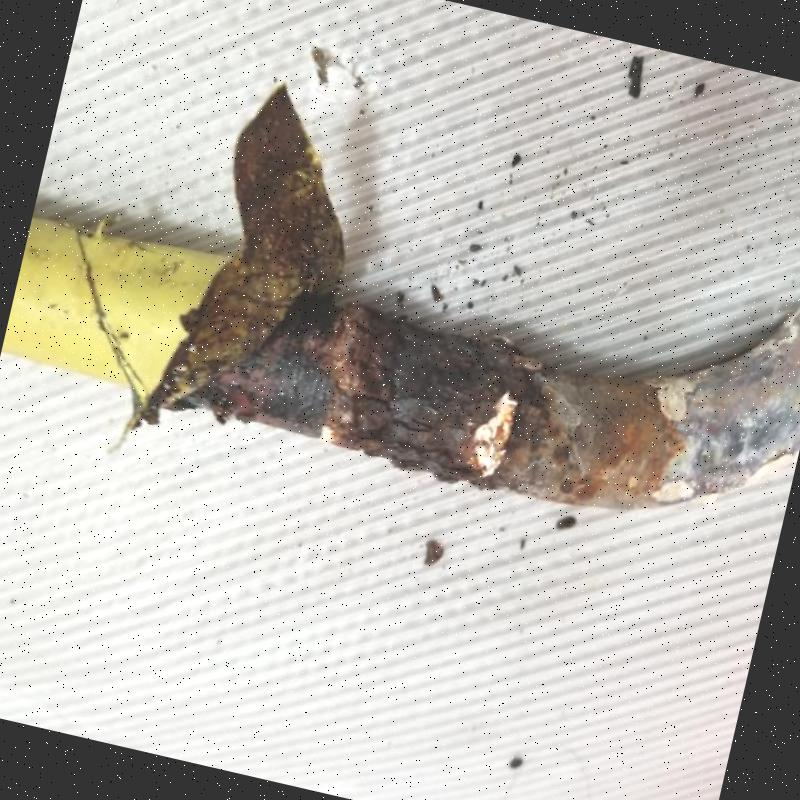corrosion: (161, 274, 678, 545)
